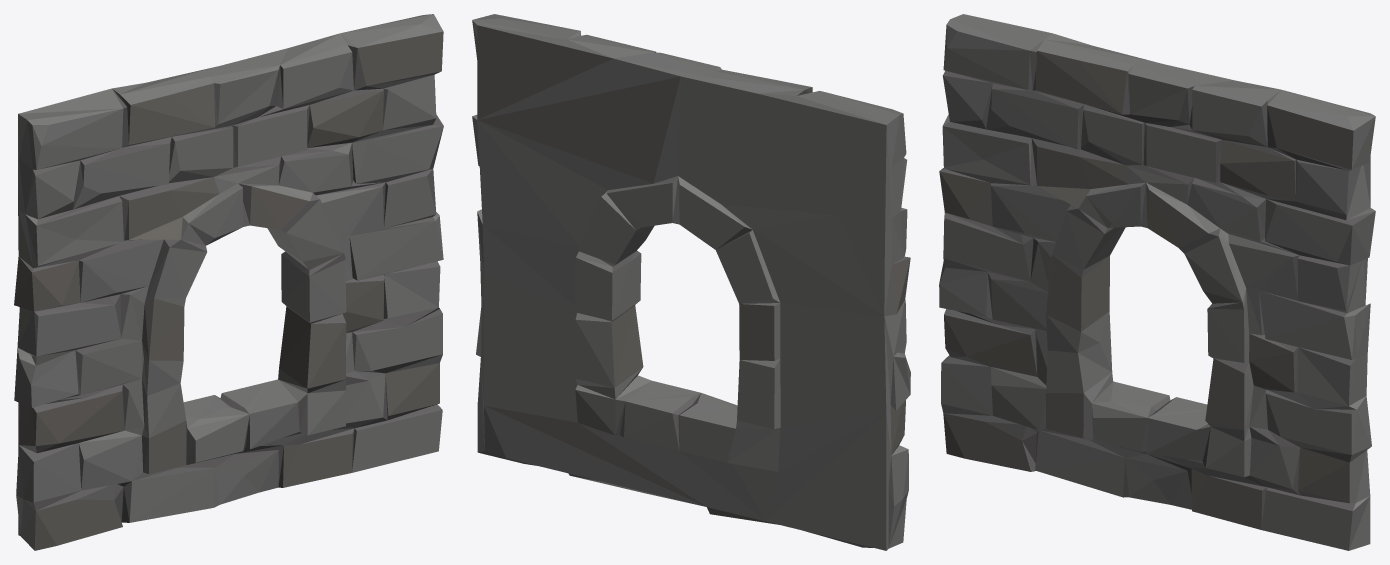
The model's file is SM_Env_Wall_Window_02.FBX.
The picture shows the model from 3 angles, left to right: view 1: azimuth 30°, elevation 25°; view 2: azimuth 150°, elevation 25°; view 3: azimuth 330°, elevation 25°; orthographic projection.
Visible parts, largest first — view 1: SM_Env_Wall_Window_02; view 2: SM_Env_Wall_Window_02; view 3: SM_Env_Wall_Window_02.
Boxes of the visible parts, x1=… form: SM_Env_Wall_Window_02: x1=14, y1=14, x2=443, y2=550; SM_Env_Wall_Window_02: x1=472, y1=14, x2=910, y2=550; SM_Env_Wall_Window_02: x1=939, y1=14, x2=1375, y2=550.
Size of what is drawn, in the model's own units: 523 by 61.46 by 514.
